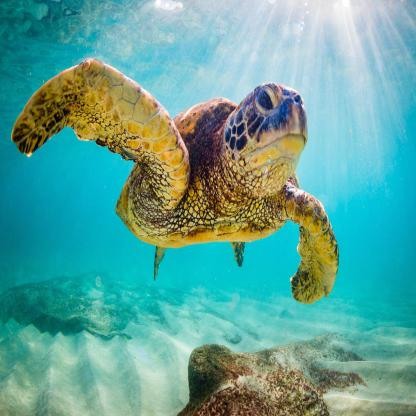turtle: (224, 72, 312, 204)
